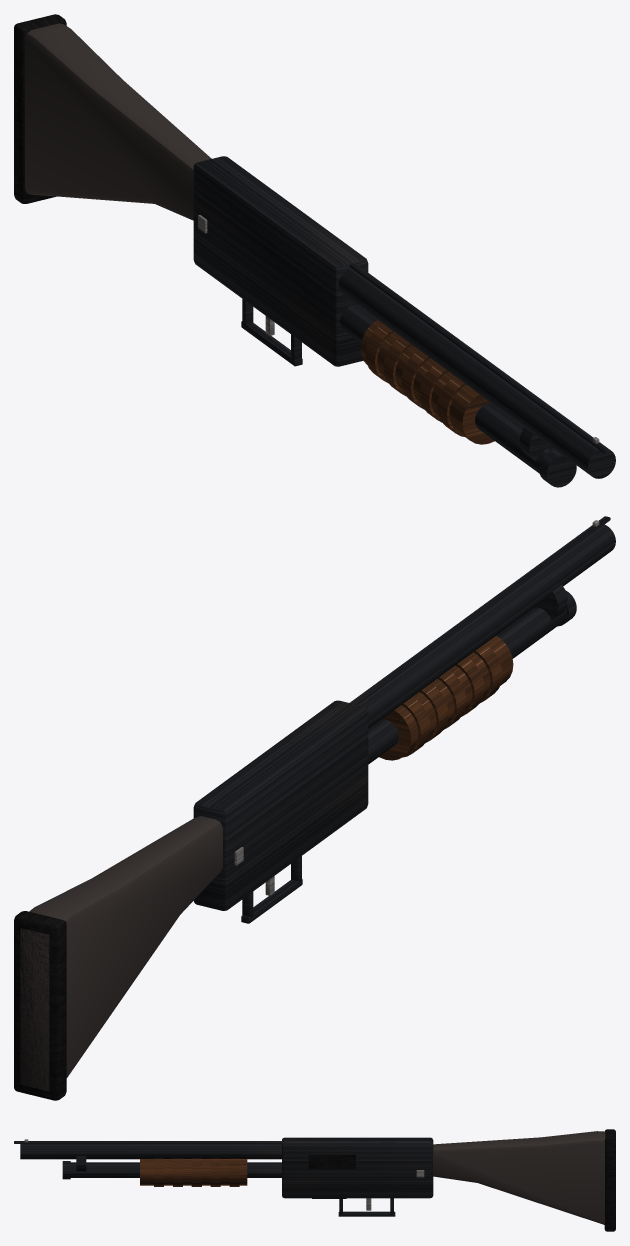
Rendered from Shotgun.fbx.
The picture shows the model from 3 angles, top to bottom: view 1: azimuth 30°, elevation 25°; view 2: azimuth 150°, elevation 25°; view 3: azimuth 270°, elevation 25°; orthographic projection. The views are drawn at different scales.
Parts seen in each view (by area): view 1: Shotgun_Body, Pump; view 2: Shotgun_Body, Pump; view 3: Shotgun_Body, Pump.
Boxes of the visible parts, bbox=[...] form: Shotgun_Body: bbox=[14, 14, 615, 487]; Pump: bbox=[360, 319, 494, 444]; Shotgun_Body: bbox=[14, 516, 615, 1100]; Pump: bbox=[379, 635, 513, 760]; Shotgun_Body: bbox=[14, 1129, 615, 1231]; Pump: bbox=[140, 1158, 247, 1186].
Bounding box in the file's own units: 0.0536 × 0.162 × 0.955.
1 material, 1 textured.
